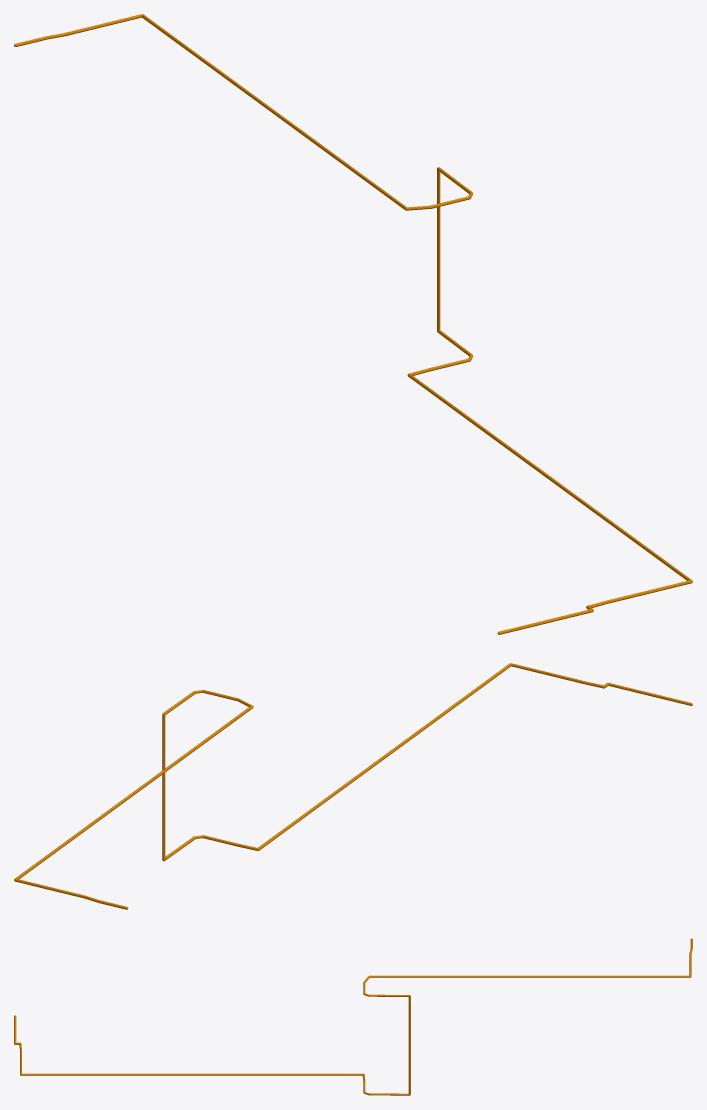
3 renders of one model, top to bottom at view 1: azimuth 30°, elevation 25°; view 2: azimuth 150°, elevation 25°; view 3: azimuth 270°, elevation 25°, orthographic. The views are drawn at different scales.
Bounding box in the file's own units: 1723 × 1020 × 6242.
